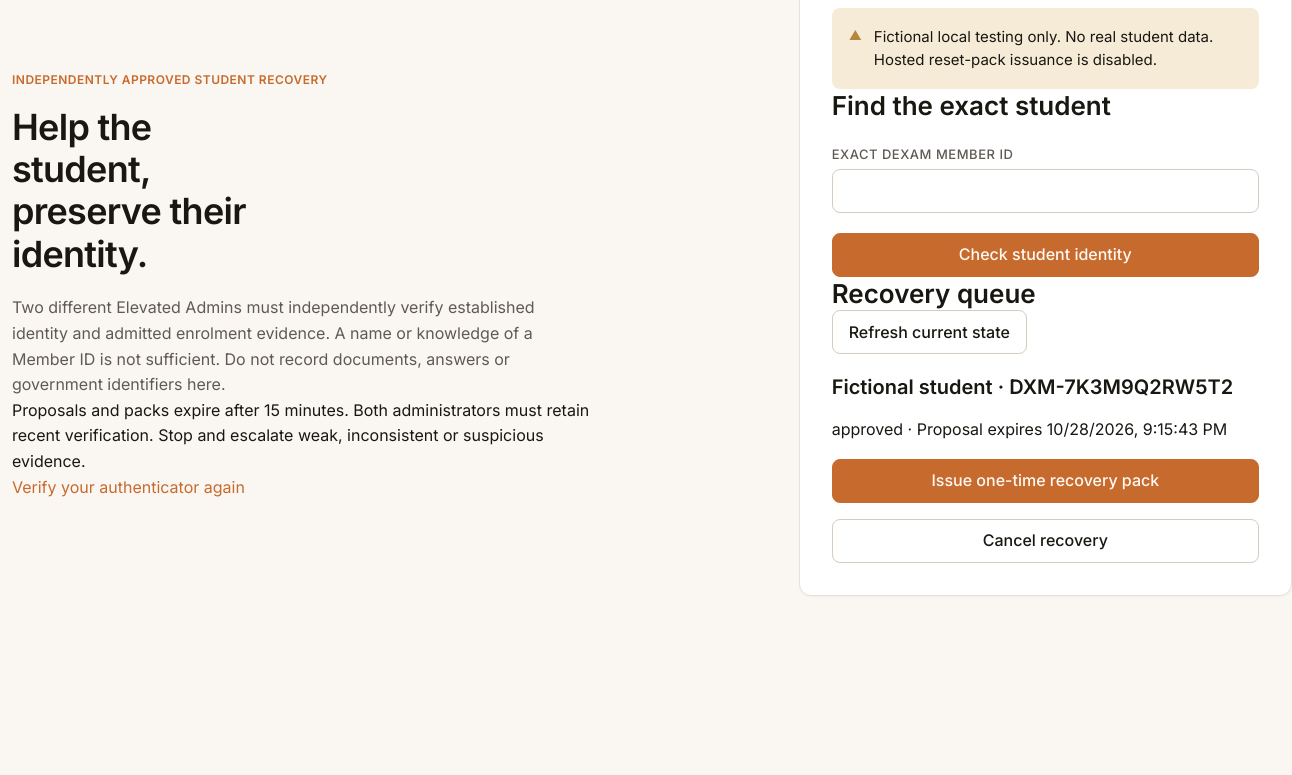
Scenario: student assisted recovery administration › hides a transient pack explicitly after private handover
Click the button "Issue one-time recovery pack" at [1045, 480], box [832,458,1259,502]
(page scrolled)
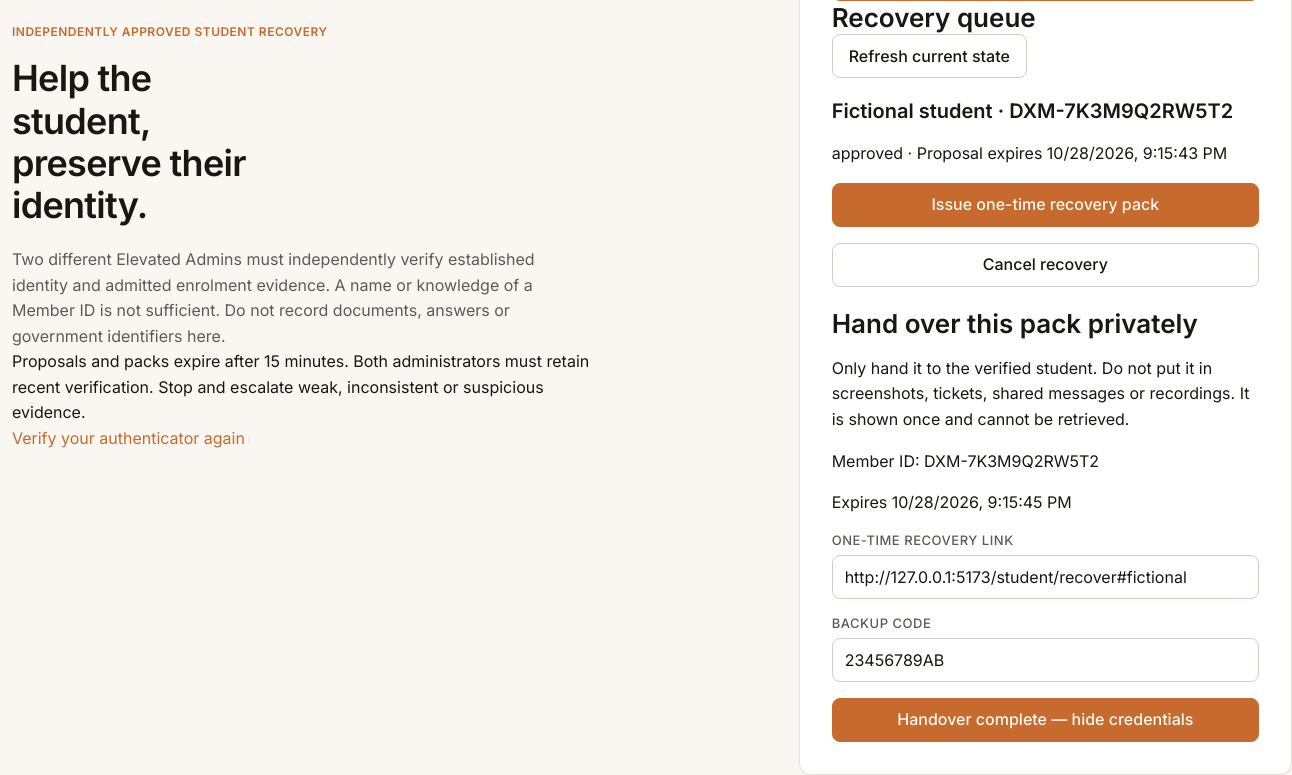
Result: the field labelled "Backup code" holds "23456789AB" at [832,638,1259,682]
Click the button "Handover complete — hide credentials" at [1045, 720], box [832,698,1259,742]
(page scrolled)
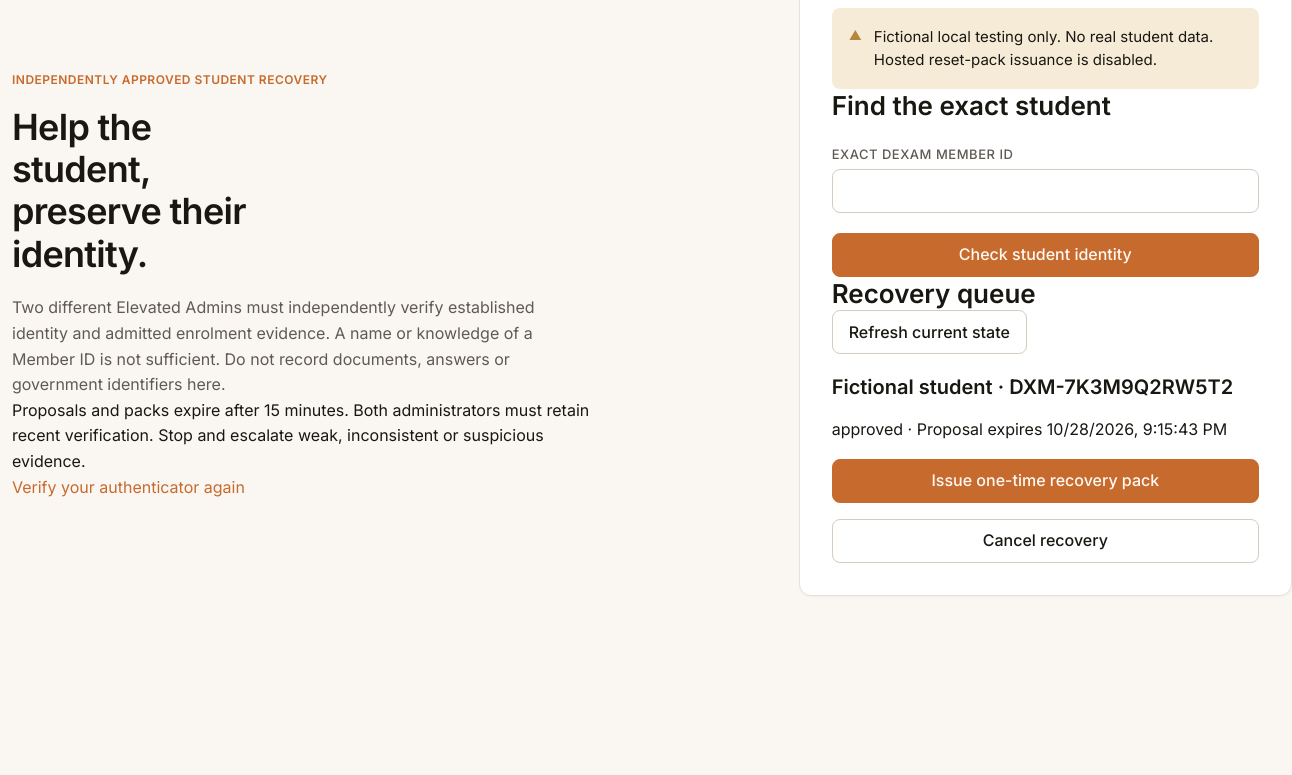
Result: the label labelled "Backup code" is gone
